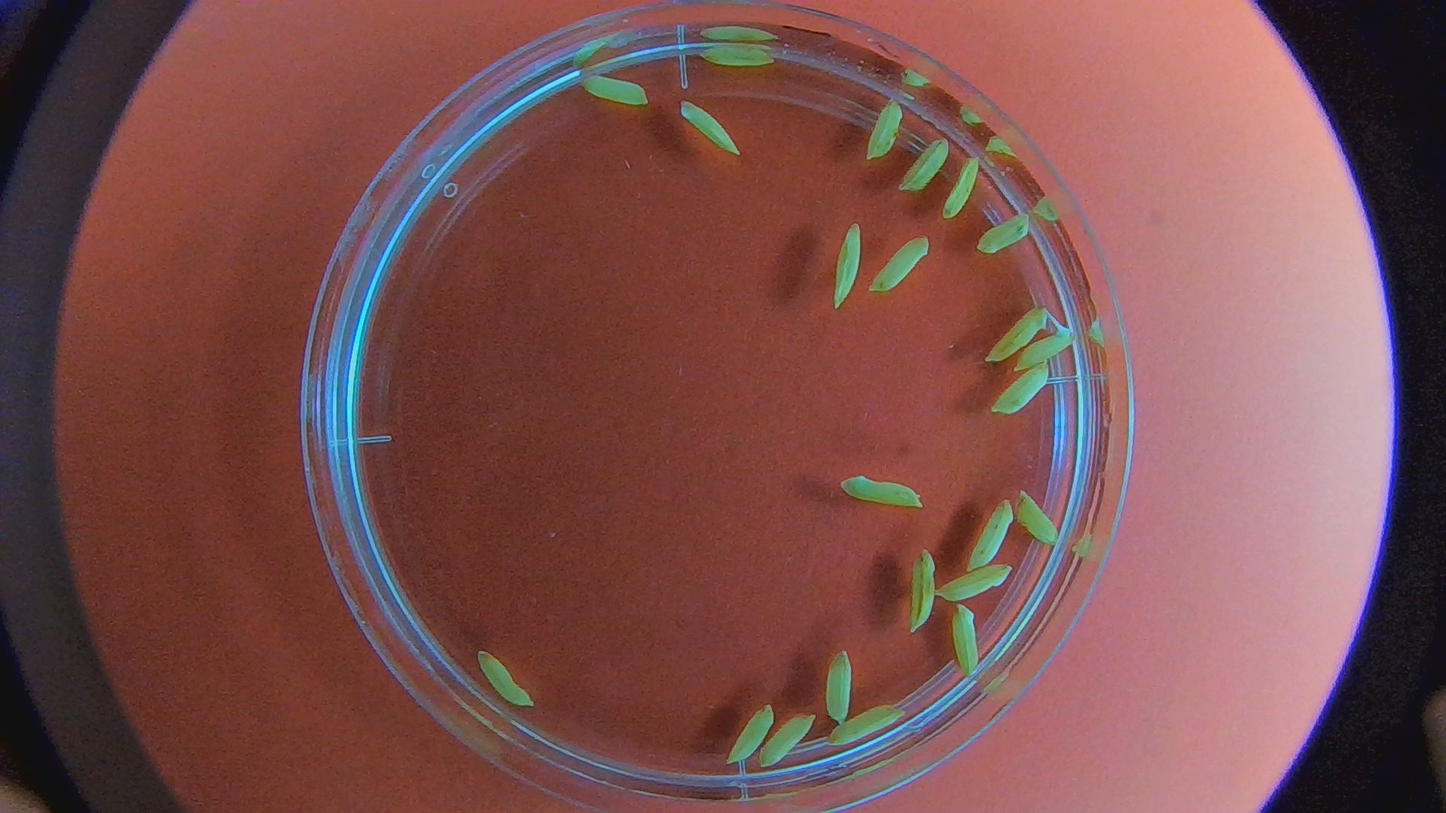no: (676, 96, 748, 156), (472, 647, 535, 711), (827, 702, 908, 749), (963, 496, 1016, 567), (835, 474, 929, 513), (866, 237, 929, 295), (936, 559, 1013, 606), (987, 307, 1048, 364), (759, 714, 819, 770), (905, 547, 940, 631), (900, 135, 952, 191), (727, 702, 773, 763), (977, 206, 1034, 254), (864, 96, 904, 163), (996, 366, 1052, 413), (578, 72, 651, 108), (1014, 489, 1060, 545), (832, 224, 863, 306), (950, 605, 983, 679), (942, 158, 981, 219), (825, 652, 856, 723), (695, 42, 775, 69)
yes: (1017, 322, 1076, 372)
